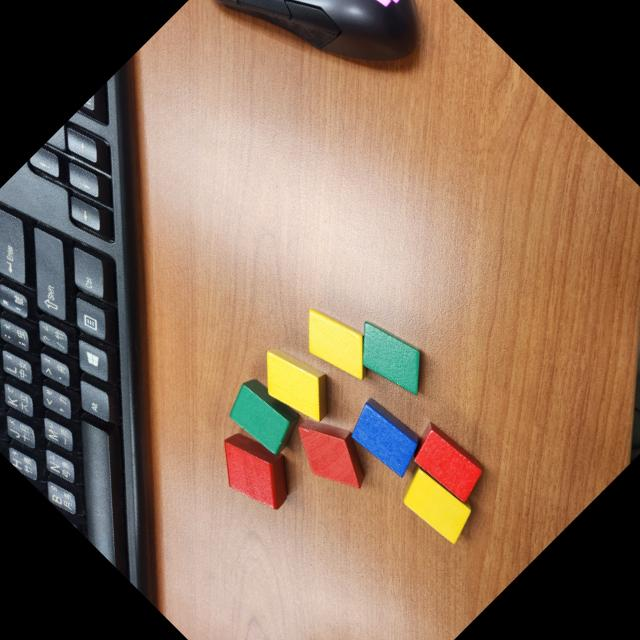blue: (338, 390, 432, 484)
green: (338, 306, 442, 410), (216, 369, 308, 462)
red: (200, 416, 308, 522), (280, 402, 382, 506), (400, 416, 492, 508)
yellow: (245, 332, 346, 434), (286, 294, 386, 394), (392, 459, 484, 552)
